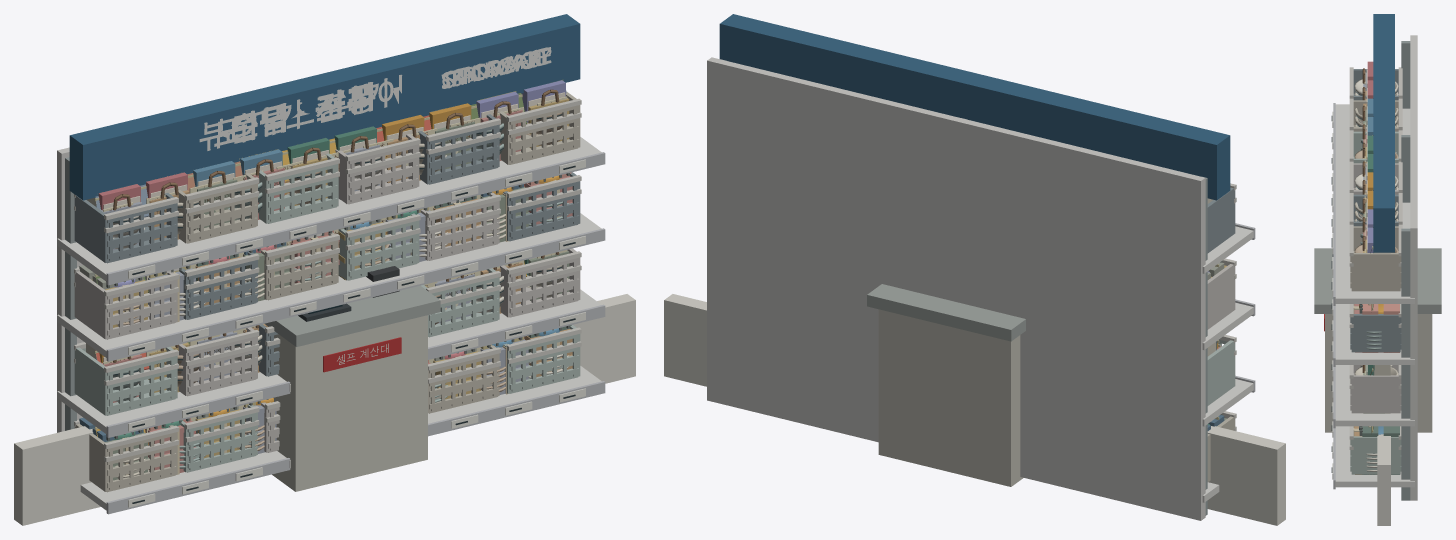
Rendered from shop.glb.
3 views of the same model, side by side, from view 1: azimuth 30°, elevation 25°; view 2: azimuth 150°, elevation 25°; view 3: azimuth 270°, elevation 25° (orthographic). The views are drawn at different scales.
Visible parts, largest first — view 1: Organizers, PaperGoods, SelfCheckout, GiftWrap, DaisoSign, CosmeticPads, Tableware, Snacks; view 2: PaperGoods, SelfCheckout, DaisoSign, Organizers; view 3: PaperGoods, Organizers, SelfCheckout, CosmeticPads, Tableware, DaisoSign, GiftWrap, Snacks.
Boxes of the visible parts, x1,y1,x2,y2 form: Organizers: (74, 47, 581, 492); PaperGoods: (57, 14, 605, 514); SelfCheckout: (264, 266, 440, 491); GiftWrap: (91, 49, 572, 480); DaisoSign: (14, 294, 635, 525); CosmeticPads: (98, 47, 565, 439); Tableware: (113, 48, 568, 477); Snacks: (94, 49, 567, 445); PaperGoods: (707, 14, 1255, 520); SelfCheckout: (867, 284, 1025, 486); DaisoSign: (664, 294, 1285, 525); Organizers: (1207, 183, 1236, 481); PaperGoods: (1331, 14, 1417, 500); Organizers: (1349, 67, 1402, 474); SelfCheckout: (1314, 152, 1441, 432); CosmeticPads: (1359, 61, 1383, 434); Tableware: (1354, 79, 1398, 471); DaisoSign: (1377, 434, 1390, 525); GiftWrap: (1353, 68, 1391, 474); Snacks: (1362, 72, 1373, 432).
Bounding box in the file's own units: 3.7 × 2.13 × 0.83.
